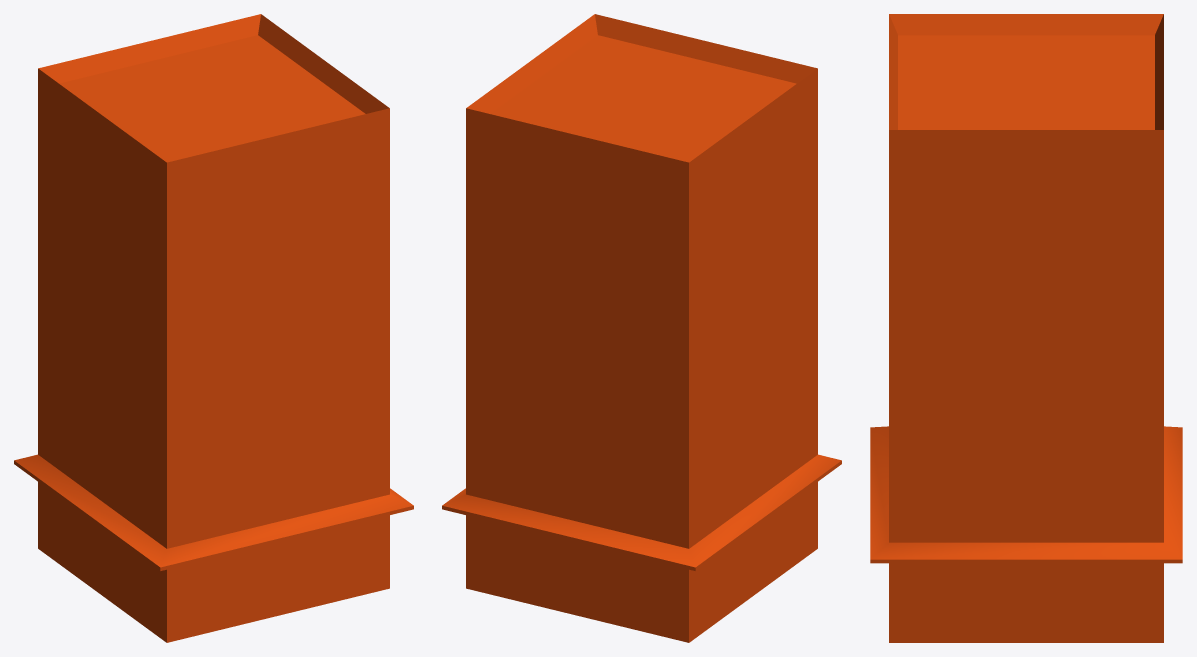
The model's file is cube.211_lev1_lev3.glb.
3 views of the same model, side by side, from view 1: azimuth 30°, elevation 25°; view 2: azimuth 150°, elevation 25°; view 3: azimuth 270°, elevation 25° (orthographic). The views are drawn at different scales.
Parts seen in each view (by area): view 1: cube.211_lev1_lev3; view 2: cube.211_lev1_lev3; view 3: cube.211_lev1_lev3.
Part boxes in pixels (x1,y1,x2,y2): cube.211_lev1_lev3: (14,14,413,642); cube.211_lev1_lev3: (442,14,841,642); cube.211_lev1_lev3: (870,14,1182,642).
Bounding box in the file's own units: 4.4 × 7.96 × 4.4.
